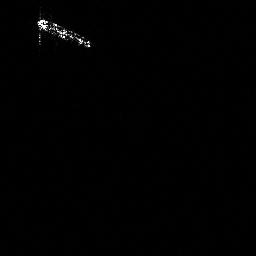ship: (34, 16, 95, 50)
